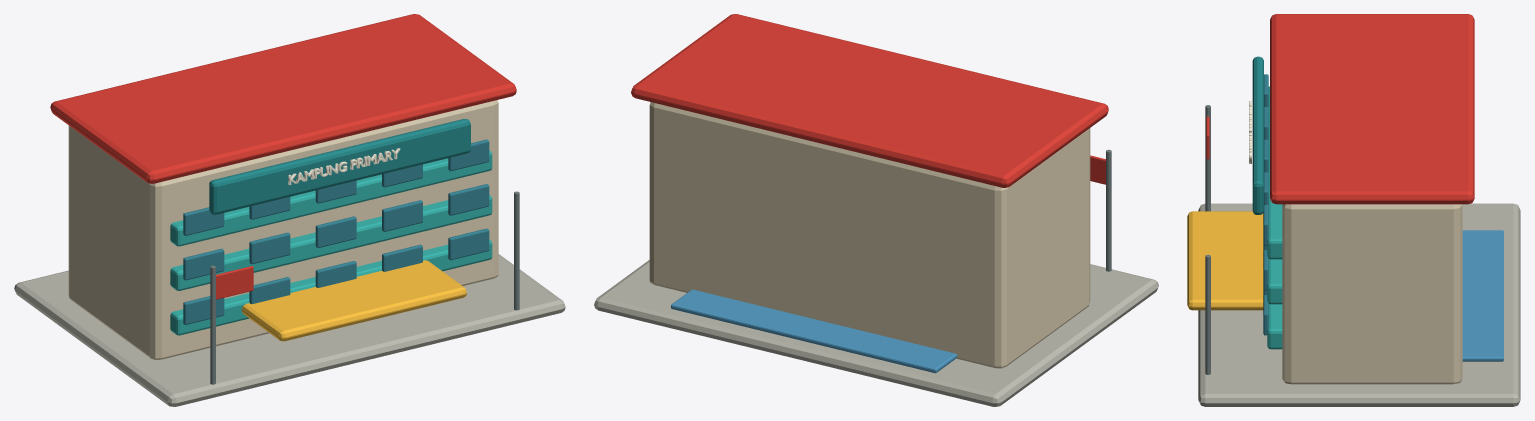
Rendered from school-v2.glb.
The picture shows the model from 3 angles, left to right: view 1: azimuth 30°, elevation 25°; view 2: azimuth 150°, elevation 25°; view 3: azimuth 270°, elevation 25°; orthographic projection. The views are drawn at different scales.
Parts seen in each view (by area): view 1: KAMPUNG PRIMARY SCHOOL · Singapore red, KAMPUNG PRIMARY SCHOOL · Warm plaster, KAMPUNG PRIMARY SCHOOL · Concrete, KAMPUNG PRIMARY SCHOOL · Graphic glass, KAMPUNG PRIMARY SCHOOL · Weathered teal, KAMPUNG PRIMARY SCHOOL · Signal yellow, KAMPUNG PRIMARY SCHOOL · Deep teal, KAMPUNG PRIMARY SCHOOL · Dark metal, KAMPUNG PRIMARY SCHOOL · Chalk; view 2: KAMPUNG PRIMARY SCHOOL · Warm plaster, KAMPUNG PRIMARY SCHOOL · Singapore red, KAMPUNG PRIMARY SCHOOL · Concrete, KAMPUNG PRIMARY SCHOOL · Utility blue, KAMPUNG PRIMARY SCHOOL · Dark metal; view 3: KAMPUNG PRIMARY SCHOOL · Singapore red, KAMPUNG PRIMARY SCHOOL · Warm plaster, KAMPUNG PRIMARY SCHOOL · Concrete, KAMPUNG PRIMARY SCHOOL · Signal yellow, KAMPUNG PRIMARY SCHOOL · Utility blue, KAMPUNG PRIMARY SCHOOL · Weathered teal, KAMPUNG PRIMARY SCHOOL · Deep teal, KAMPUNG PRIMARY SCHOOL · Graphic glass, KAMPUNG PRIMARY SCHOOL · Dark metal.
Boxes of the visible parts, left/top/right/bottom form: KAMPUNG PRIMARY SCHOOL · Singapore red: left=50, top=14, right=516, bottom=299; KAMPUNG PRIMARY SCHOOL · Warm plaster: left=68, top=100, right=498, bottom=359; KAMPUNG PRIMARY SCHOOL · Concrete: left=14, top=254, right=565, bottom=406; KAMPUNG PRIMARY SCHOOL · Graphic glass: left=183, top=139, right=489, bottom=324; KAMPUNG PRIMARY SCHOOL · Weathered teal: left=170, top=150, right=492, bottom=335; KAMPUNG PRIMARY SCHOOL · Signal yellow: left=241, top=260, right=466, bottom=341; KAMPUNG PRIMARY SCHOOL · Deep teal: left=209, top=119, right=470, bottom=214; KAMPUNG PRIMARY SCHOOL · Dark metal: left=210, top=191, right=519, bottom=384; KAMPUNG PRIMARY SCHOOL · Chalk: left=288, top=148, right=400, bottom=185; KAMPUNG PRIMARY SCHOOL · Warm plaster: left=649, top=102, right=1090, bottom=368; KAMPUNG PRIMARY SCHOOL · Singapore red: left=631, top=14, right=1108, bottom=187; KAMPUNG PRIMARY SCHOOL · Concrete: left=594, top=260, right=1158, bottom=406; KAMPUNG PRIMARY SCHOOL · Utility blue: left=671, top=289, right=957, bottom=373; KAMPUNG PRIMARY SCHOOL · Dark metal: left=1106, top=149, right=1111, bottom=271; KAMPUNG PRIMARY SCHOOL · Singapore red: left=1206, top=14, right=1474, bottom=204; KAMPUNG PRIMARY SCHOOL · Warm plaster: left=1282, top=204, right=1462, bottom=384; KAMPUNG PRIMARY SCHOOL · Concrete: left=1198, top=203, right=1520, bottom=406; KAMPUNG PRIMARY SCHOOL · Signal yellow: left=1187, top=211, right=1263, bottom=310; KAMPUNG PRIMARY SCHOOL · Utility blue: left=1462, top=230, right=1503, bottom=361; KAMPUNG PRIMARY SCHOOL · Weathered teal: left=1267, top=86, right=1282, bottom=349; KAMPUNG PRIMARY SCHOOL · Deep teal: left=1252, top=56, right=1263, bottom=214; KAMPUNG PRIMARY SCHOOL · Graphic glass: left=1263, top=74, right=1268, bottom=335; KAMPUNG PRIMARY SCHOOL · Dark metal: left=1205, top=105, right=1210, bottom=374.
Bounding box in the file's own units: 7.2 × 3.58 × 5.17.
